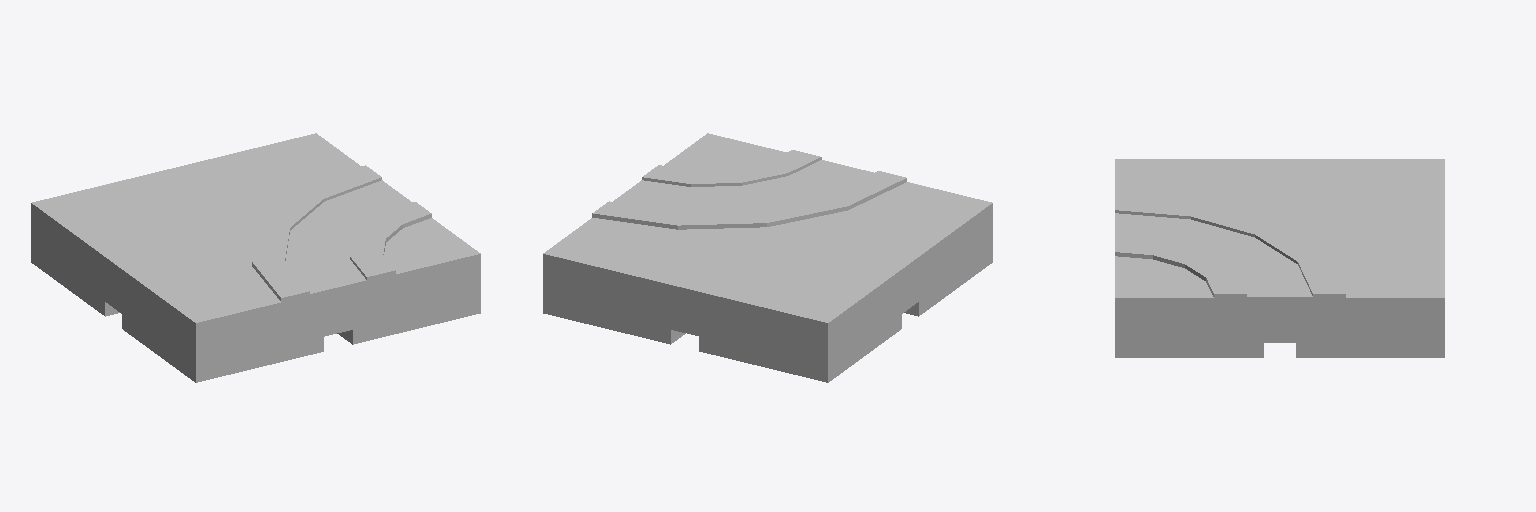
File: puzzlePiece_oneBend_NW.obj
3 renders of one model, left to right at view 1: azimuth 30°, elevation 25°; view 2: azimuth 150°, elevation 25°; view 3: azimuth 270°, elevation 25°, orthographic.
Parts seen in each view (by area): view 1: polySurface1 pCube2, polySurface4, pCube2 polySurface2; view 2: polySurface1 pCube2, polySurface4, pCube2 polySurface2; view 3: polySurface1 pCube2, polySurface4, pCube2 polySurface2.
Part boxes in pixels (bbox=[...]): polySurface1 pCube2: bbox=[31, 133, 480, 382]; polySurface4: bbox=[252, 165, 431, 306]; pCube2 polySurface2: bbox=[286, 180, 411, 301]; polySurface1 pCube2: bbox=[543, 133, 992, 382]; polySurface4: bbox=[592, 150, 906, 229]; pCube2 polySurface2: bbox=[613, 160, 873, 211]; polySurface1 pCube2: bbox=[1115, 159, 1444, 357]; polySurface4: bbox=[1115, 196, 1345, 301]; pCube2 polySurface2: bbox=[1115, 213, 1332, 298].
Size of the model in its own units: 0.5 by 0.107 by 0.5.